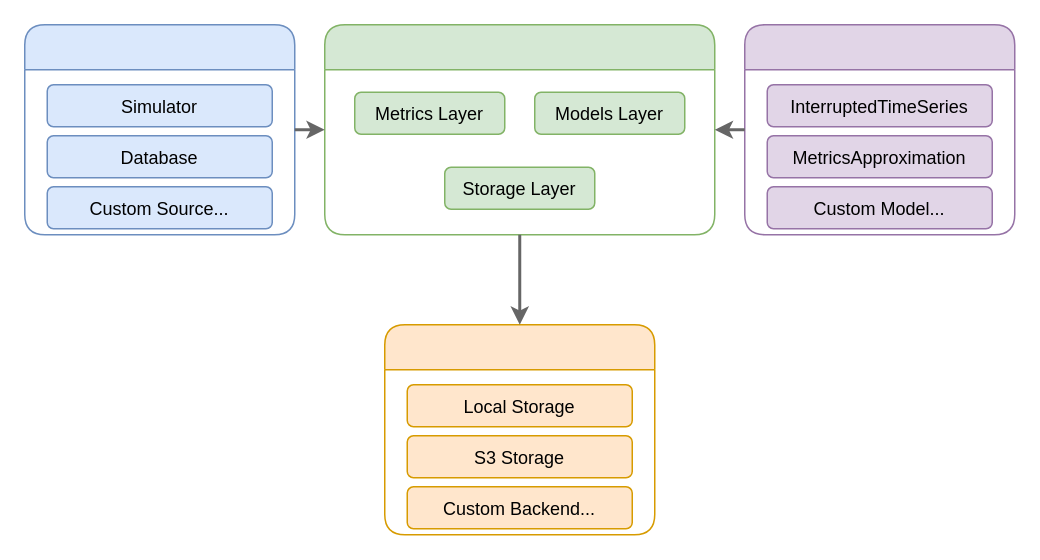
This 1040x560 diagram has some shape labels left out. The shapes that lost their labels are listed below. From the top down, each one's box as (x1, y1, x2, y2) in pixels, then its label:
(23, 23, 295, 235): Data Sources
(323, 23, 715, 235): Impact Engine
(743, 23, 1015, 235): Model Adapters
(383, 323, 655, 535): Data Storage
